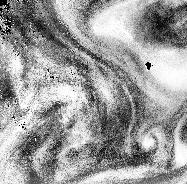CE: (134, 121, 164, 154)
